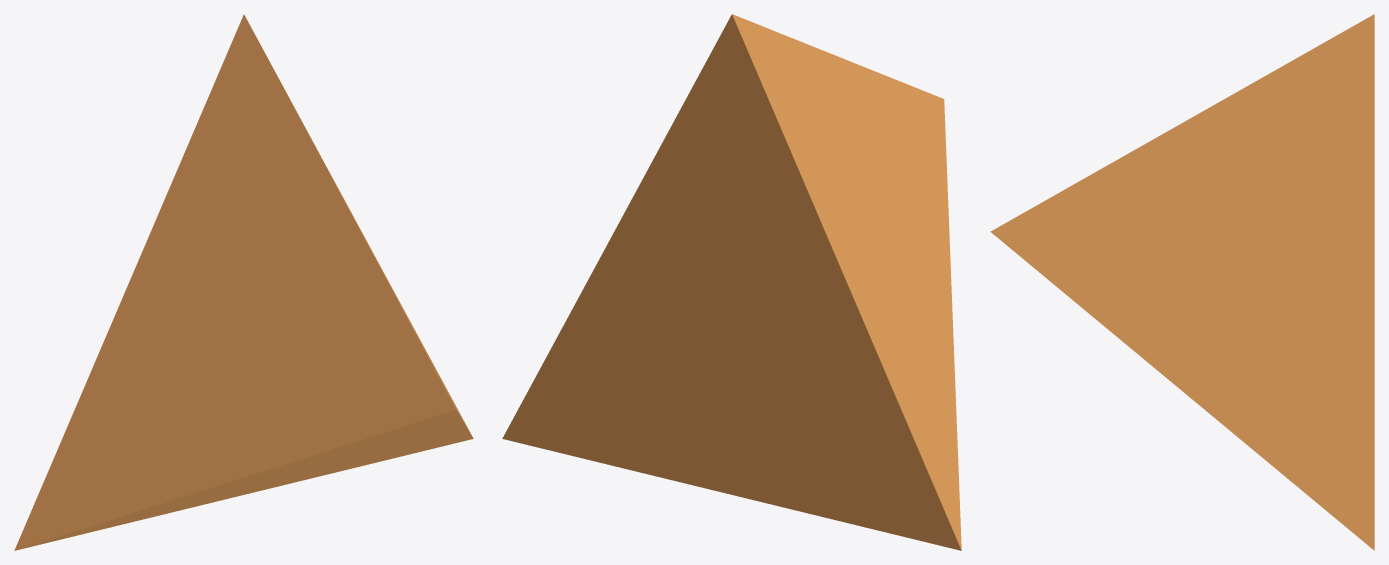
The model's file is local-tetrahedron.glb.
3 renders of one model, left to right at view 1: azimuth 30°, elevation 25°; view 2: azimuth 150°, elevation 25°; view 3: azimuth 270°, elevation 25°, orthographic. The views are drawn at different scales.
Bounding box in the file's own units: 2 × 2 × 1.6.
